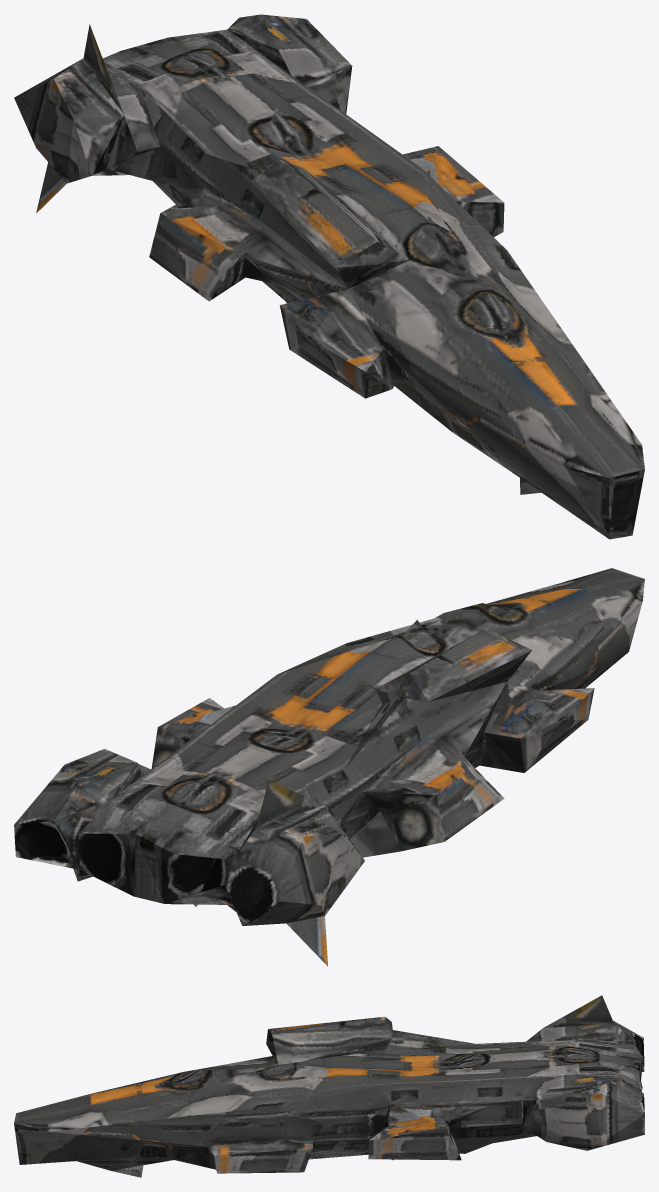
File: hard-300.glb
The picture shows the model from 3 angles, top to bottom: view 1: azimuth 30°, elevation 25°; view 2: azimuth 150°, elevation 25°; view 3: azimuth 270°, elevation 25°; orthographic projection. The views are drawn at different scales.
Parts seen in each view (by area): view 1: Low; view 2: Low; view 3: Low.
Part boxes in pixels (x1,y1,x2,y2): Low: [14, 14, 644, 539]; Low: [14, 568, 644, 966]; Low: [14, 995, 644, 1177].
Size of the model in its own units: 0.3432 by 0.2565 by 0.9711.
1 material, 1 textured.
